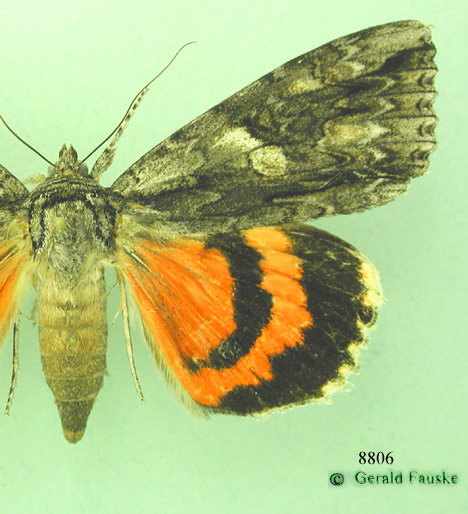Noctuidae: (1, 12, 441, 451)
